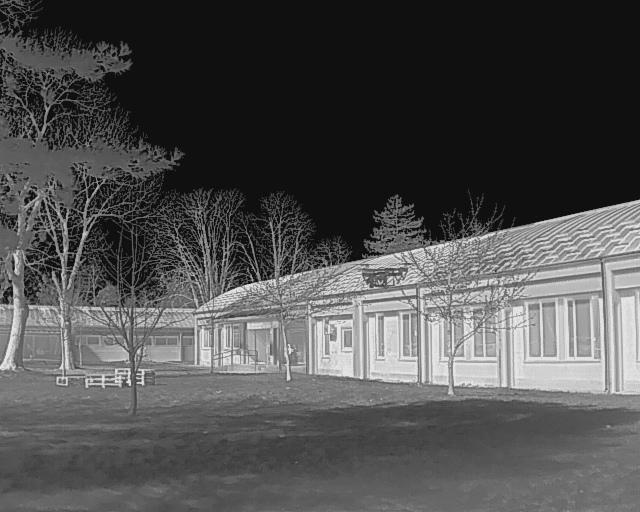drone: (356, 253, 421, 299)
